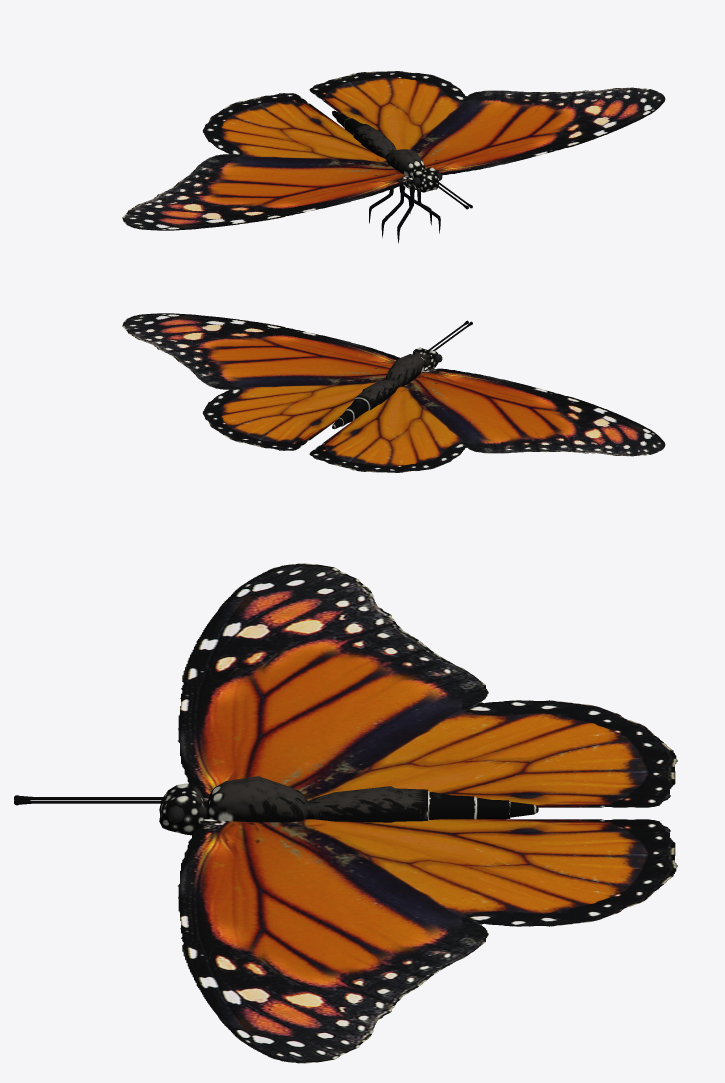
Rendered from butterfly.obj.
3 renders of one model, top to bottom at view 1: azimuth 30°, elevation 25°; view 2: azimuth 150°, elevation 25°; view 3: azimuth 270°, elevation 25°, orthographic. The views are drawn at different scales.
Parts seen in each view (by area): view 1: Wings_wings, body, legs; view 2: Wings_wings, body; view 3: Wings_wings, body.
Part boxes in pixels (box(x1,y1,x2,y2)): Wings_wings: box(122, 71, 665, 230); body: box(332, 110, 472, 209); legs: box(369, 185, 440, 243); Wings_wings: box(122, 313, 665, 472); body: box(332, 320, 472, 429); Wings_wings: box(178, 563, 677, 1063); body: box(14, 776, 538, 835).
Size of the model in its own units: 7.57 by 1.08 by 4.37.
